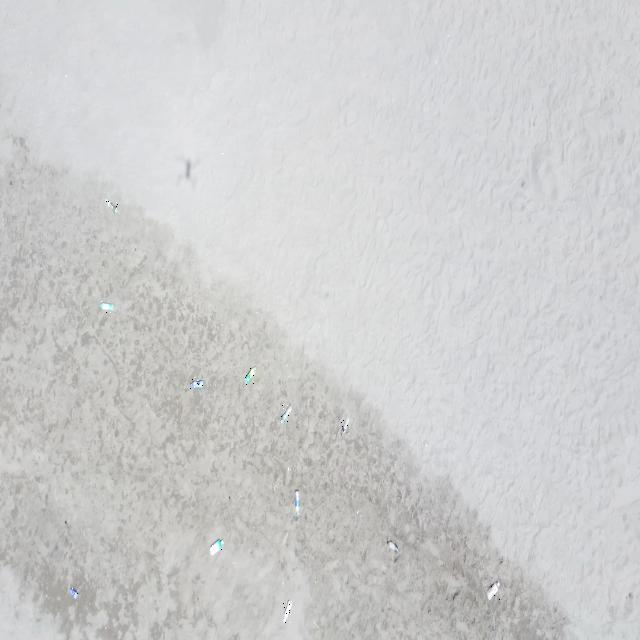plastic-bottle: (486, 580, 500, 601), (208, 538, 224, 555), (281, 404, 293, 425), (283, 599, 293, 623), (106, 198, 120, 215), (340, 417, 351, 438), (245, 366, 256, 386), (98, 301, 116, 313), (294, 489, 301, 517), (386, 539, 399, 553), (190, 379, 203, 391), (68, 588, 78, 600)
